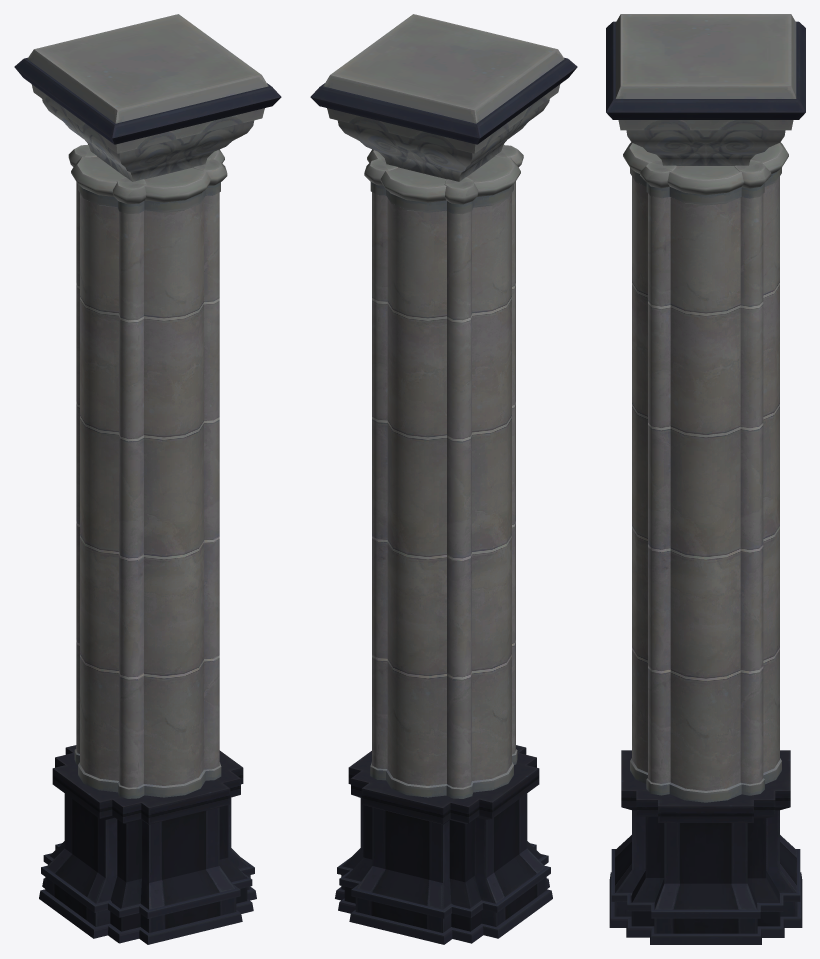
Rendered from Indoor_Mdprops_Church_Squate02_Vo_1098_2.fbx.
3 renders of one model, left to right at view 1: azimuth 30°, elevation 25°; view 2: azimuth 150°, elevation 25°; view 3: azimuth 270°, elevation 25°, orthographic. The views are drawn at different scales.
Visible parts, largest first — view 1: Indoor_Mdprops_Church_Squate02_Vo_1098_2; view 2: Indoor_Mdprops_Church_Squate02_Vo_1098_2; view 3: Indoor_Mdprops_Church_Squate02_Vo_1098_2.
Boxes of the visible parts, x1,y1,x2,y2 form: Indoor_Mdprops_Church_Squate02_Vo_1098_2: (14, 14, 281, 944); Indoor_Mdprops_Church_Squate02_Vo_1098_2: (310, 14, 577, 944); Indoor_Mdprops_Church_Squate02_Vo_1098_2: (606, 14, 805, 944).
Bounding box in the file's own units: 1.71 × 8.08 × 1.71.
